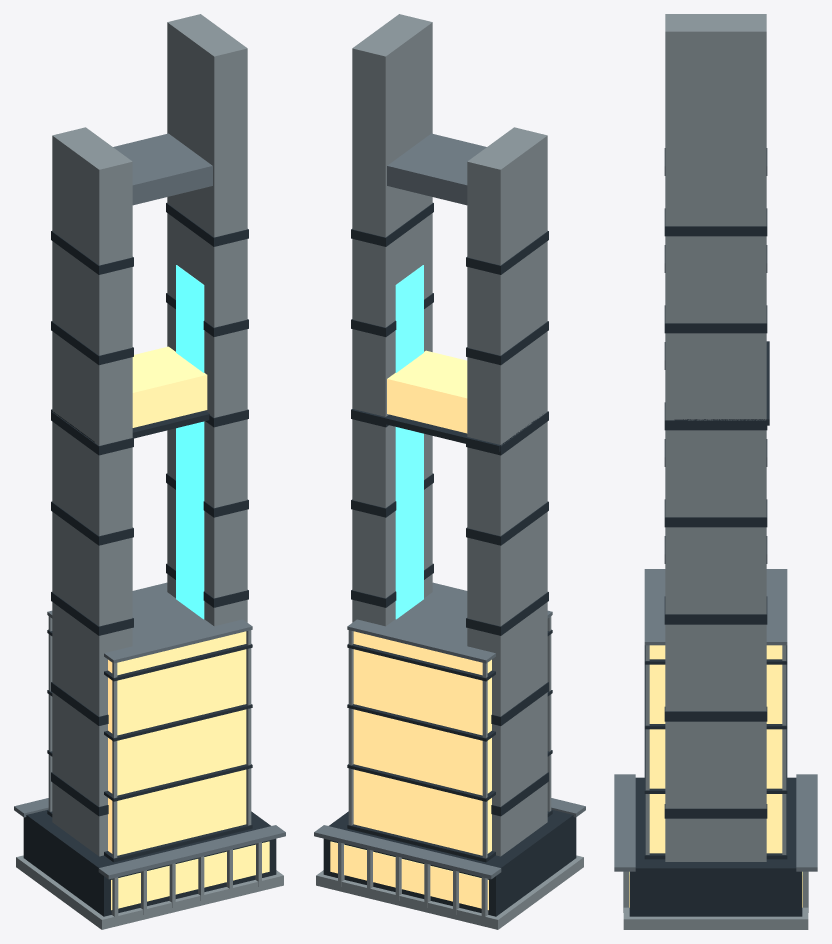
The model's file is vrx_city_landmark_a_LOD1.fbx.
3 renders of one model, left to right at view 1: azimuth 30°, elevation 25°; view 2: azimuth 150°, elevation 25°; view 3: azimuth 270°, elevation 25°, orthographic. The views are drawn at different scales.
Visible parts, largest first — view 1: vrx_city_landmark_a_LOD1; view 2: vrx_city_landmark_a_LOD1; view 3: vrx_city_landmark_a_LOD1.
Part boxes in pixels (left/top/right/bottom): vrx_city_landmark_a_LOD1: left=14, top=14, right=285, bottom=929; vrx_city_landmark_a_LOD1: left=314, top=14, right=585, bottom=929; vrx_city_landmark_a_LOD1: left=614, top=14, right=817, bottom=929.
Size of the model in its own units: 38 by 165 by 34.2.
